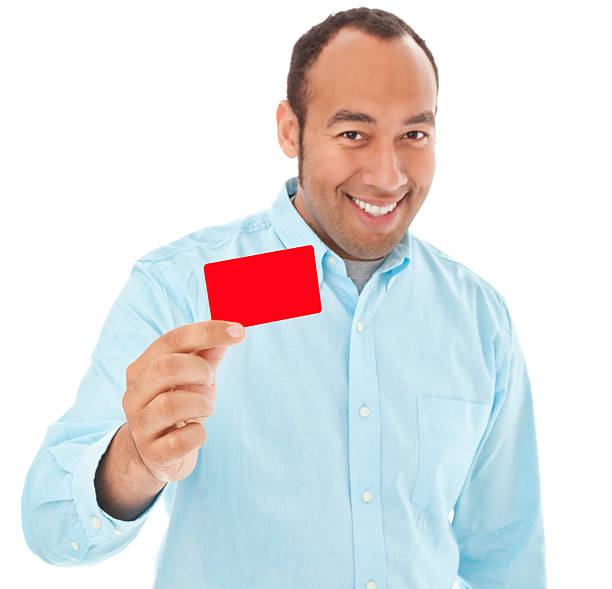tarjeta: (202, 244, 323, 329)
